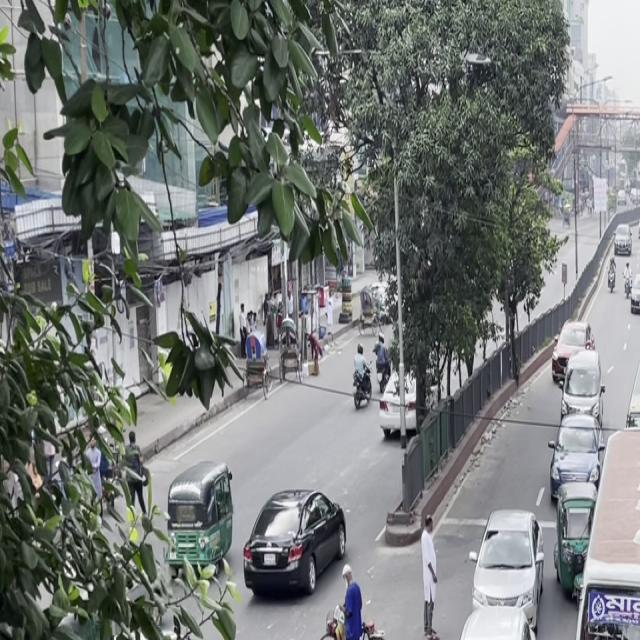bicycle: (309, 569, 400, 640)
bus: (560, 410, 640, 640)
car: (236, 476, 352, 608), (466, 507, 546, 624), (428, 581, 551, 640), (544, 409, 606, 506), (560, 344, 604, 424), (547, 328, 581, 396), (627, 268, 640, 319)
